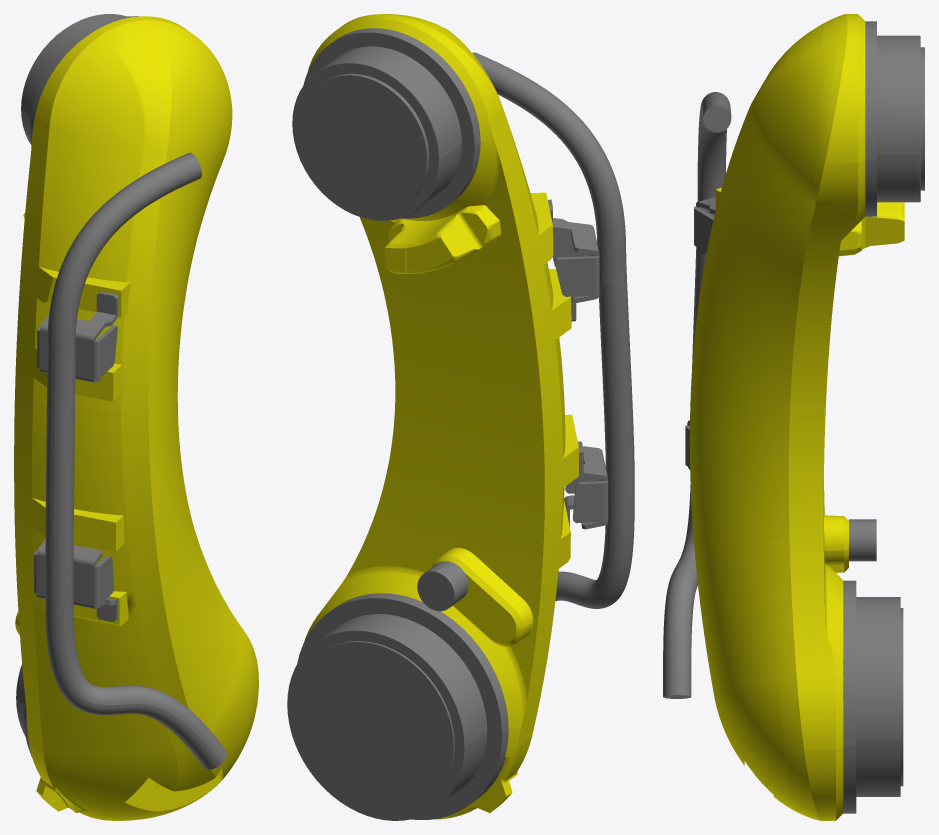
The picture shows the model from 3 angles, left to right: view 1: azimuth 30°, elevation 25°; view 2: azimuth 150°, elevation 25°; view 3: azimuth 270°, elevation 25°; orthographic projection. The views are drawn at different scales.
Visible parts, largest first — view 1: Mesh_0; view 2: Mesh_0; view 3: Mesh_0.
Boxes of the visible parts, x1,y1,x2,y2 form: Mesh_0: [14, 14, 258, 820]; Mesh_0: [287, 14, 634, 820]; Mesh_0: [663, 14, 924, 820].
Bounding box in the file's own units: 0.2077 × 0.1808 × 0.598.
